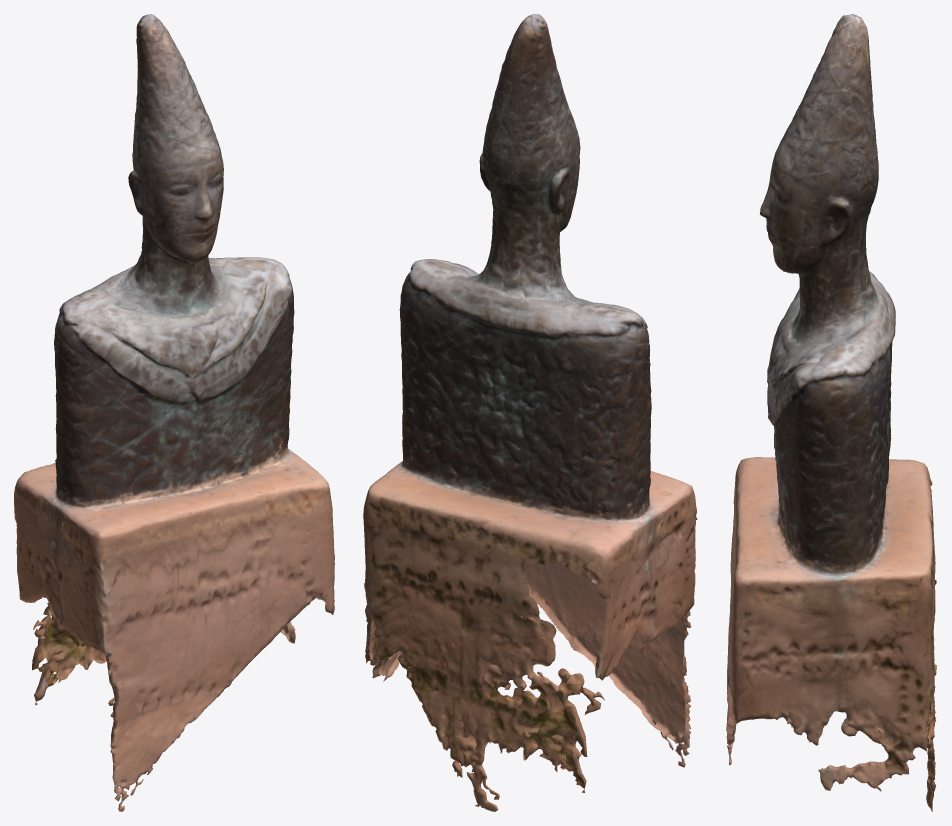
3 views of the same model, side by side, from view 1: azimuth 30°, elevation 25°; view 2: azimuth 150°, elevation 25°; view 3: azimuth 270°, elevation 25° (orthographic). The views are drawn at different scales.
Parts seen in each view (by area): view 1: auguststrassepiece03.512.50k; view 2: auguststrassepiece03.512.50k; view 3: auguststrassepiece03.512.50k.
Part boxes in pixels (left/top/right/bottom): auguststrassepiece03.512.50k: left=14, top=14, right=334, bottom=811; auguststrassepiece03.512.50k: left=363, top=14, right=697, bottom=811; auguststrassepiece03.512.50k: left=726, top=14, right=936, bottom=811.
Size of the model in its own units: 1.1 by 3.22 by 0.7765.
Materials: 1 (1 with a texture image).
